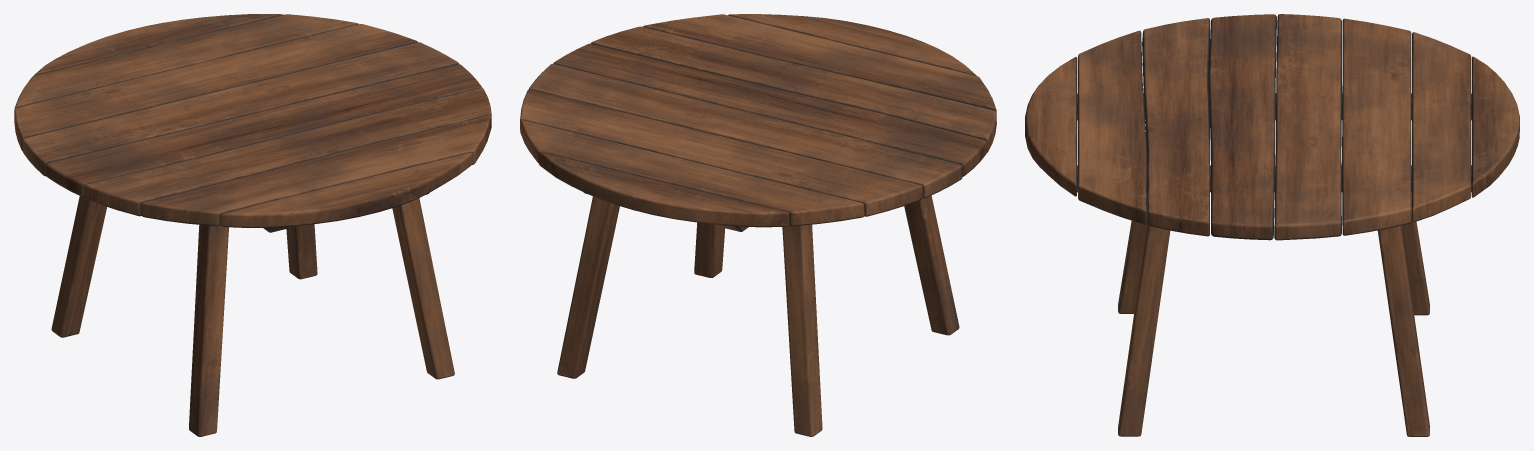
File: wood_table.glb
3 renders of one model, left to right at view 1: azimuth 30°, elevation 25°; view 2: azimuth 150°, elevation 25°; view 3: azimuth 270°, elevation 25°, orthographic. The views are drawn at different scales.
Parts seen in each view (by area): view 1: wood_table; view 2: wood_table; view 3: wood_table.
Part boxes in pixels (x1,y1,x2,y2): wood_table: (14,14,491,436); wood_table: (520,14,996,436); wood_table: (1025,14,1519,436).
Size of the model in its own units: 1.42 by 0.7854 by 1.4.
Materials: 1 (1 with a texture image).
